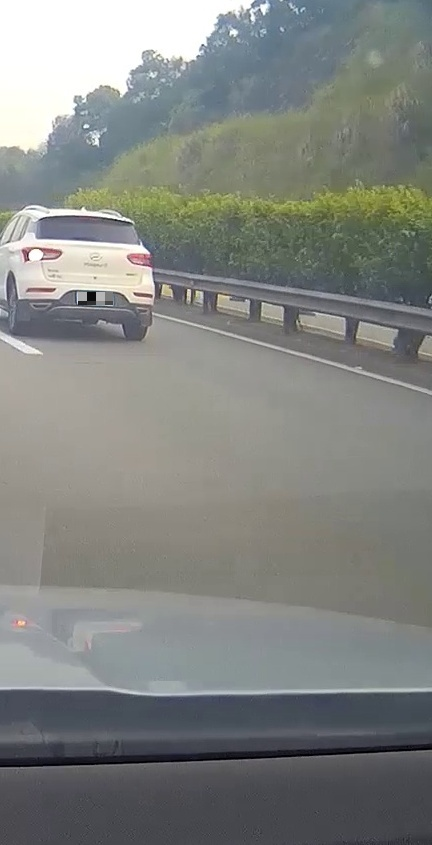L_light: (21, 246, 63, 263)
R_light: (126, 252, 153, 268)
T_light: (76, 216, 99, 221)
day-left: (17, 210, 155, 341)
plate_1: (78, 292, 113, 305)
